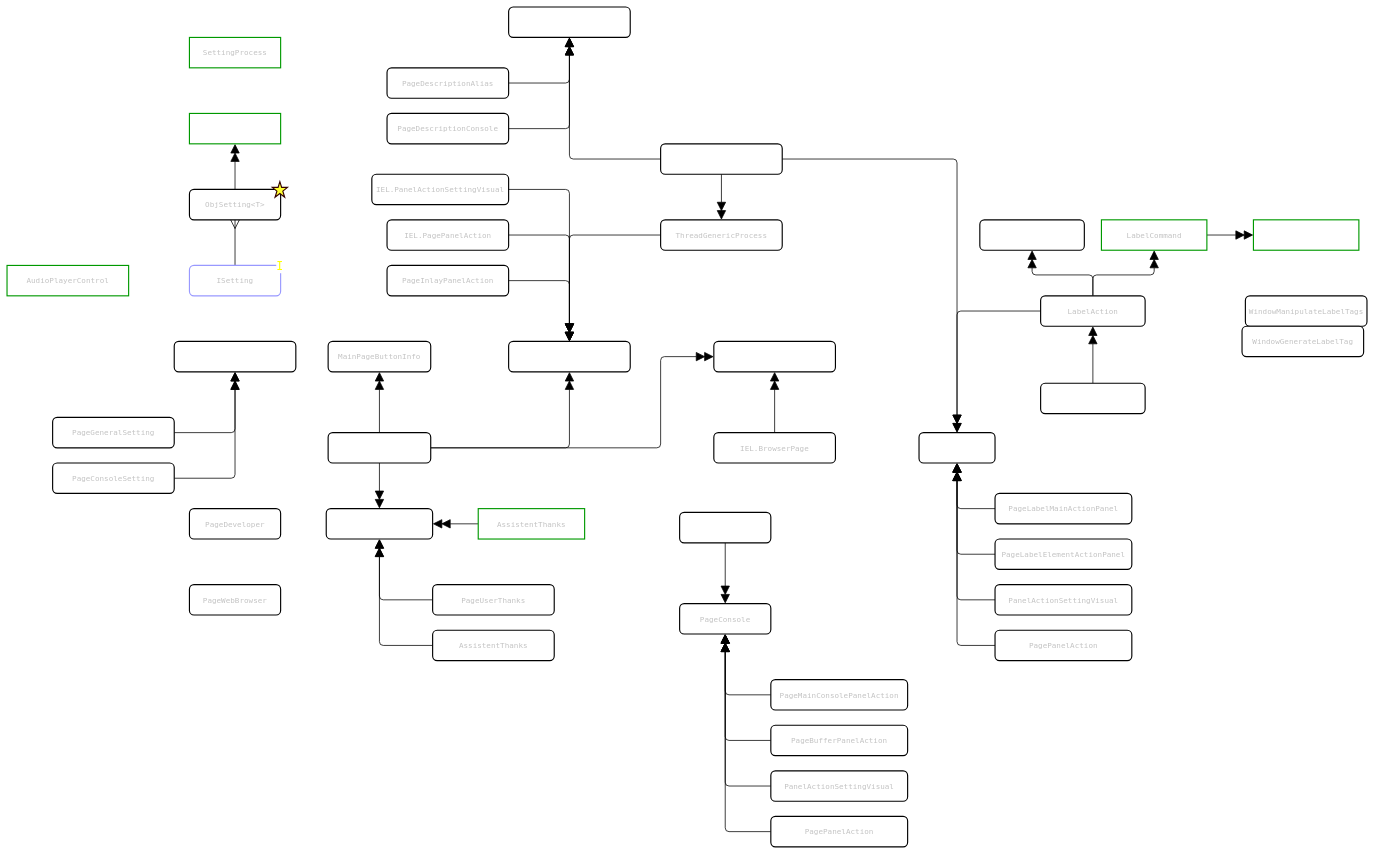
This 1374x854 diagram has some shape labels left out. Each missing label, with the centre of its shape:
"Flag" belongs at pixel 721 159.
"LabelTag" belongs at pixel 1093 398.
"LicenseWindow" belongs at pixel 379 523.
"MainWindow" belongs at pixel 569 356.
"OPLLabelTag" belongs at pixel 1306 235.
"PageLabels" belongs at pixel 956 447.
"SettingApplication" belongs at pixel 235 128.
"Sorting" belongs at pixel 725 527.
"UpdateBackgroundData" belongs at pixel 379 447.
"WindowBrowserPagesManager" belongs at pixel 774 356.
"WindowDiscriptionCommands" belongs at pixel 569 22.
"WindowGenLabel" belongs at pixel 1032 235.
"WindowSetting" belongs at pixel 234 356.
